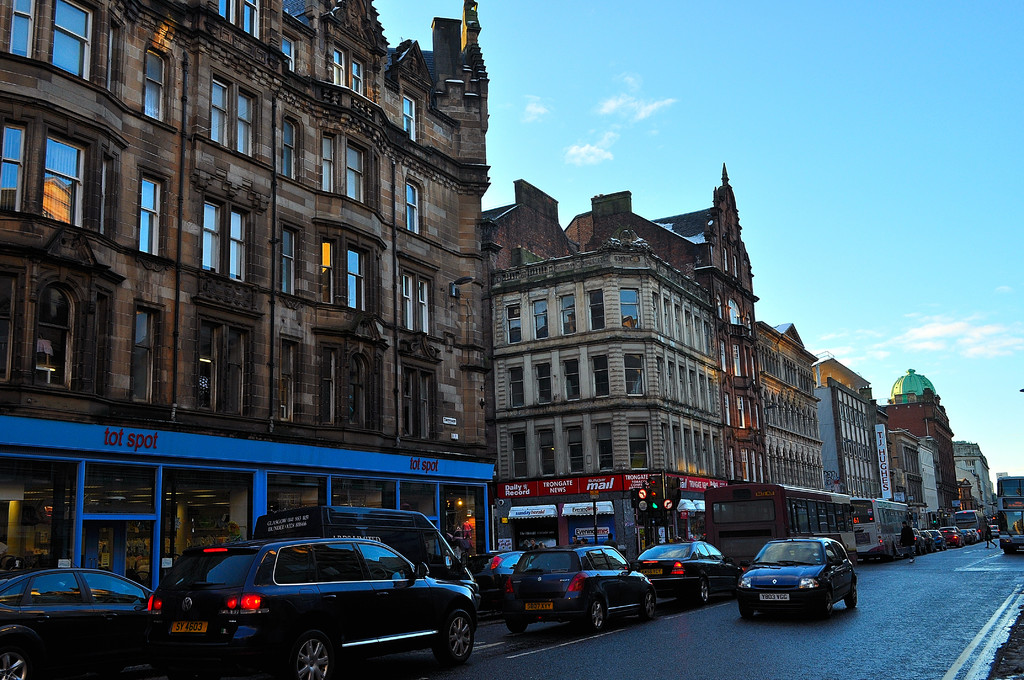Car: (140, 538, 480, 679), (0, 555, 158, 679), (501, 543, 658, 632), (737, 535, 865, 626), (634, 539, 734, 605), (912, 523, 981, 552), (482, 547, 526, 577), (985, 521, 999, 535)
